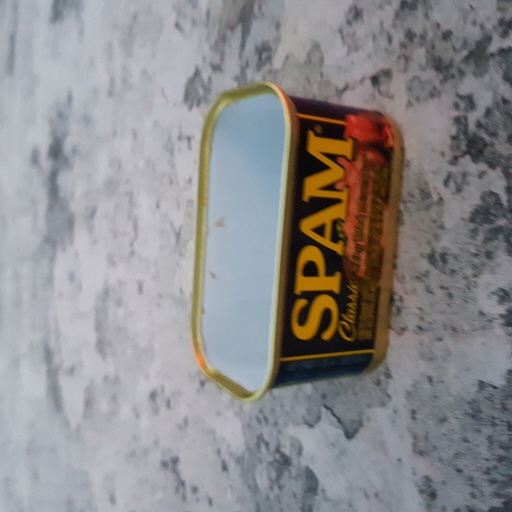Metal_2: (192, 78, 403, 399)
